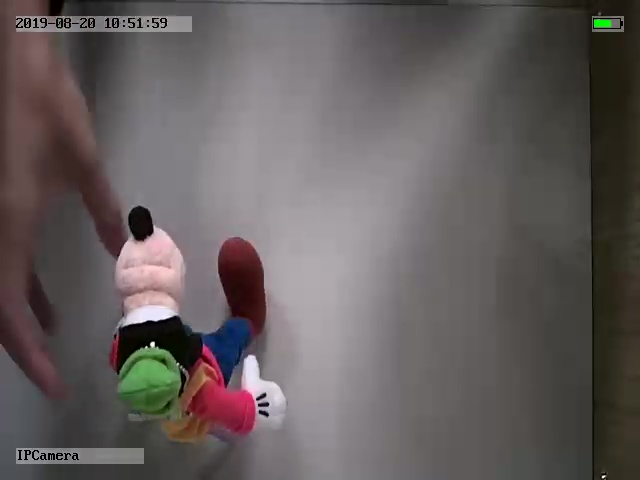goofy: (107, 205, 288, 444)
